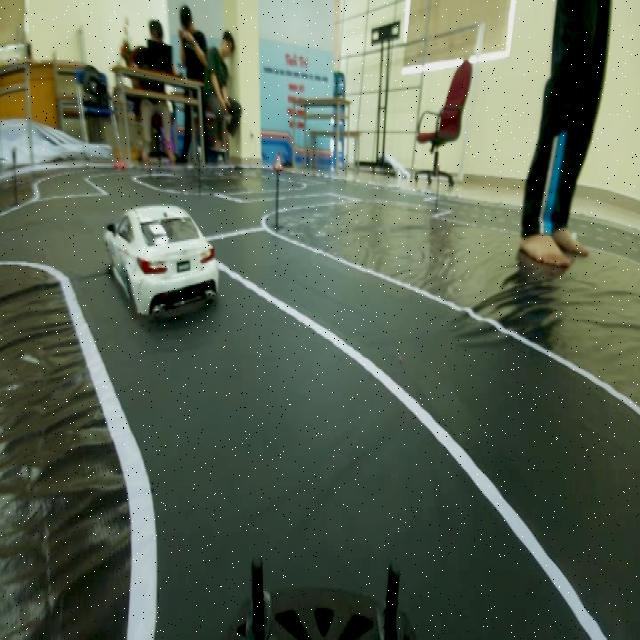car: (106, 203, 220, 320)
